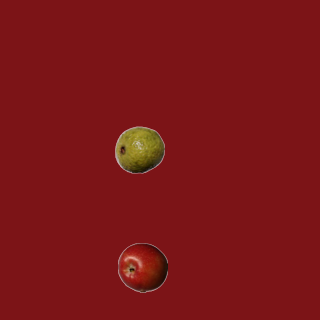Apple Braeburn: (117, 242, 167, 292)
Guava: (114, 124, 164, 174)
